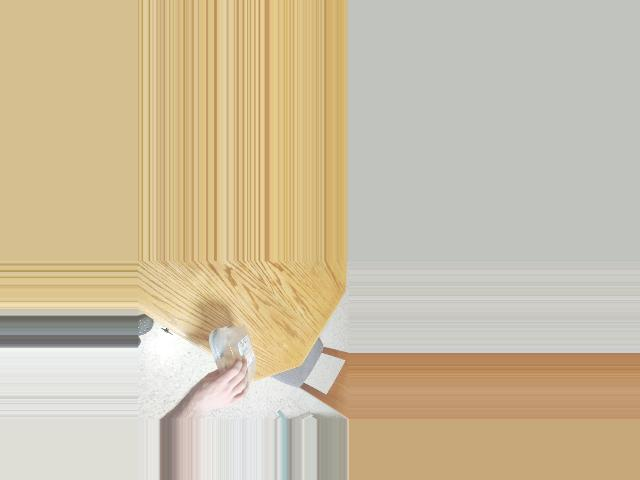cheese: (207, 344, 254, 397)
